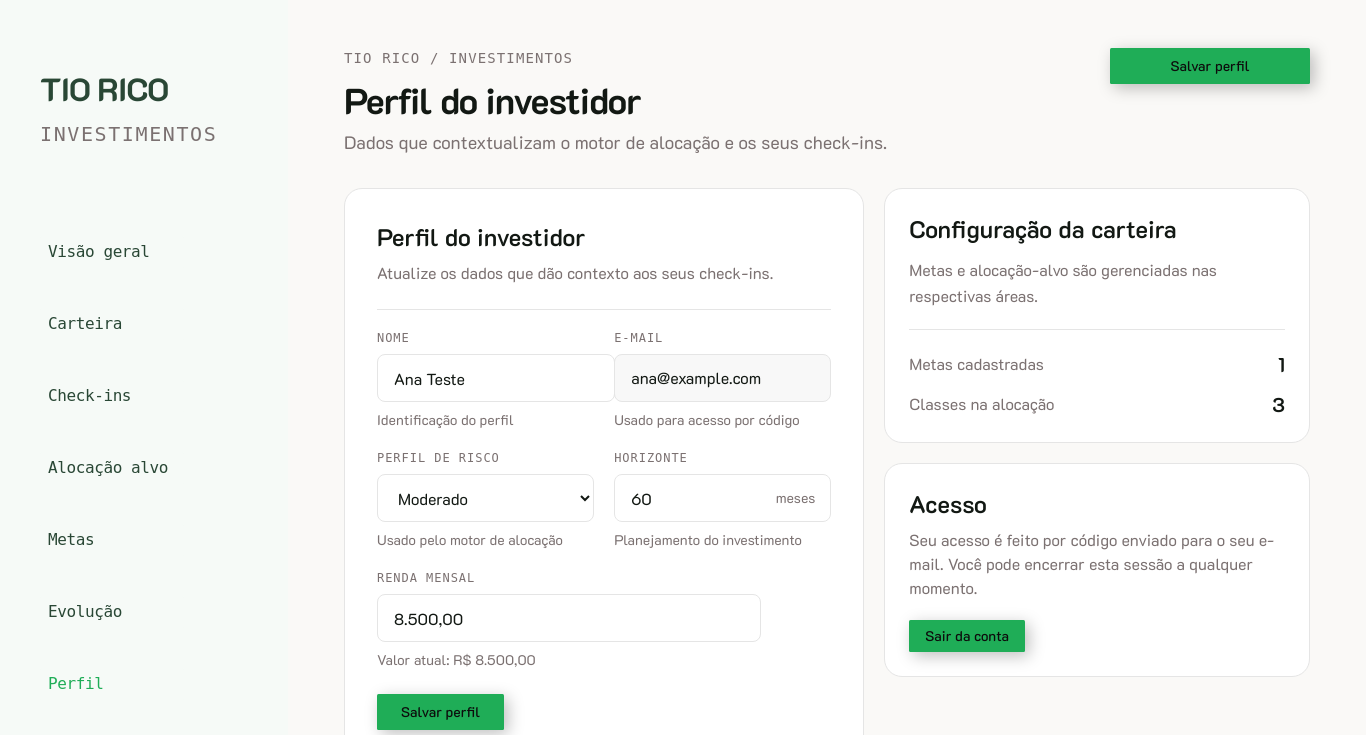
it: Profile (perfil) › salva o perfil com PATCH /api/profile e os valores convertidos
Replace the text in the field labelled "Nome" with "Ana Souza". click: (496, 378)
box: x1=377 y1=354 x2=615 y2=402
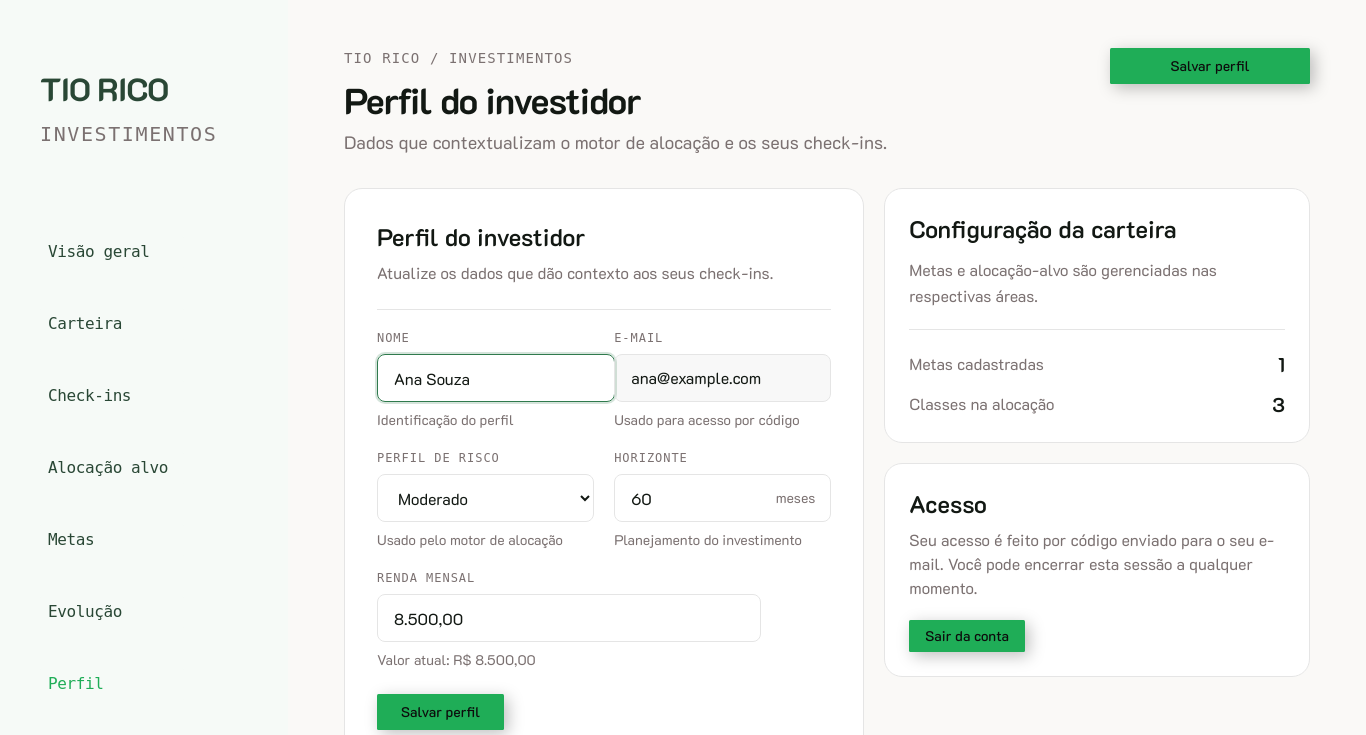
Select "Arrojado" in the dropdown labelled "Perfil de risco". click: (486, 498)
box: x1=377 y1=474 x2=594 y2=522
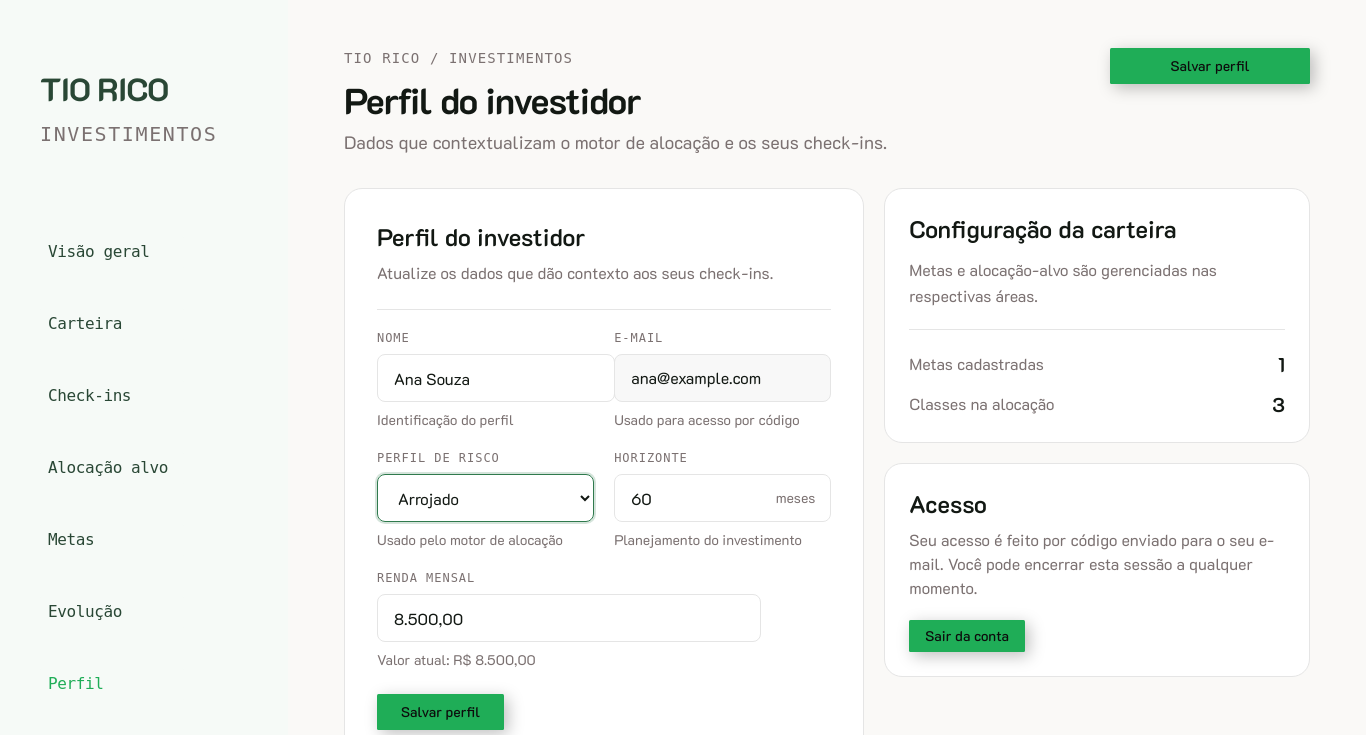
Replace the text in the number field labelled "Horizonte" with "120". click: (723, 498)
box: x1=614 y1=474 x2=831 y2=522
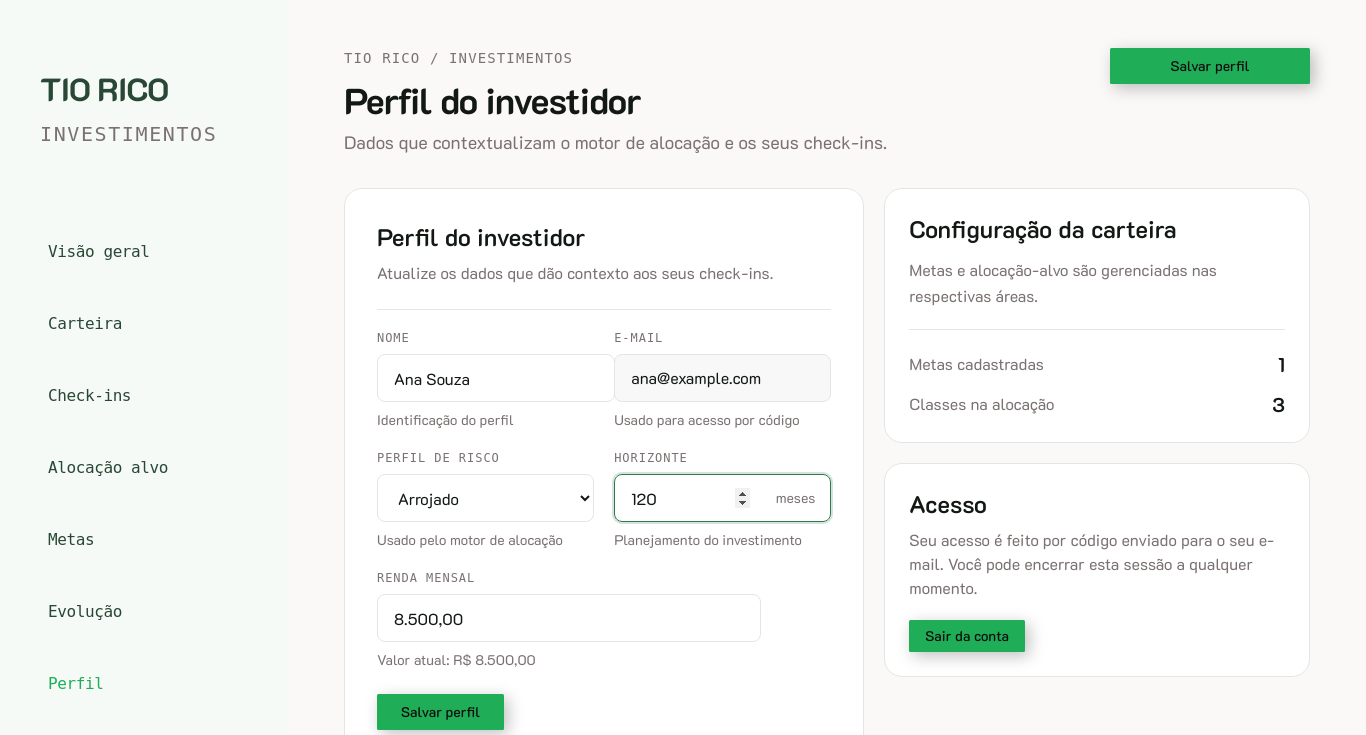
Replace the text in the field labelled "Renda mensal" with "10.000,50". click: (569, 618)
box: x1=377 y1=594 x2=761 y2=642
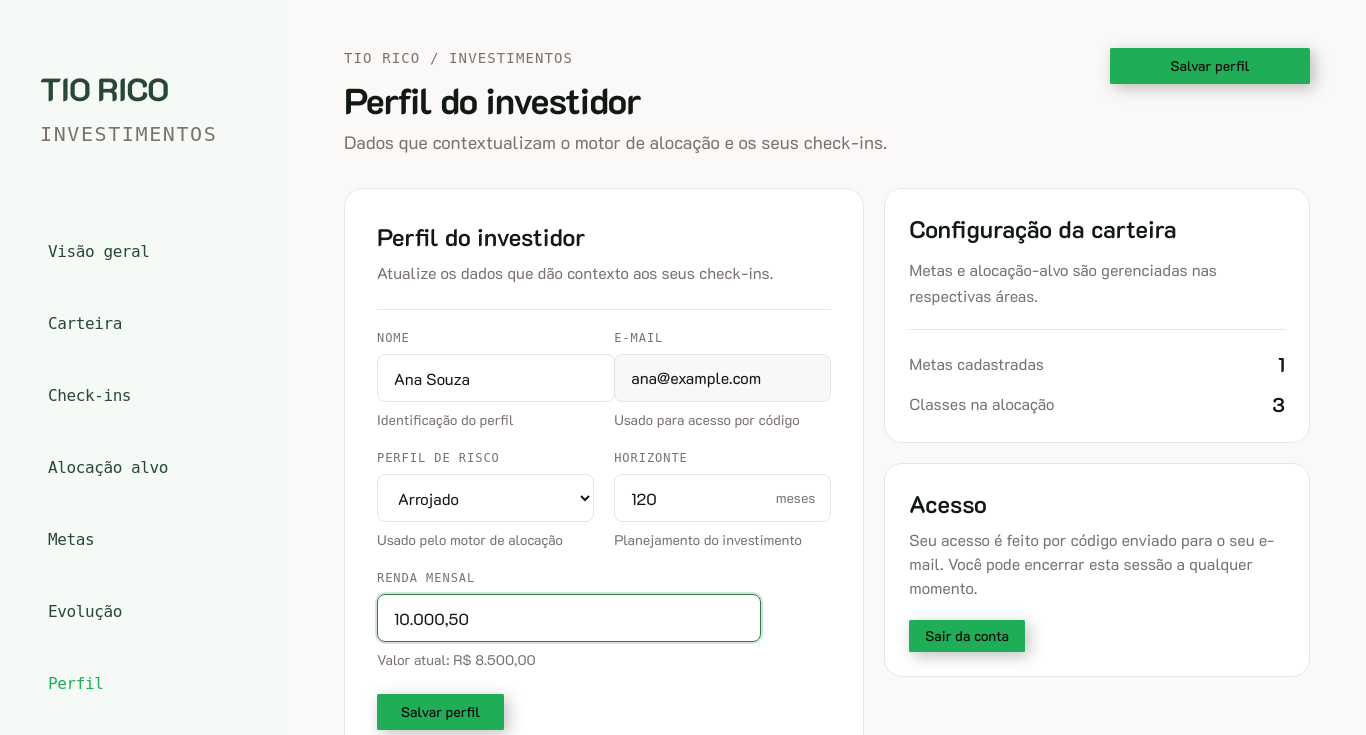
Click the button "Salvar perfil" in the row of "TIO RICO / INVESTIMENTOS". click: (1210, 66)
box: x1=1110 y1=48 x2=1310 y2=84
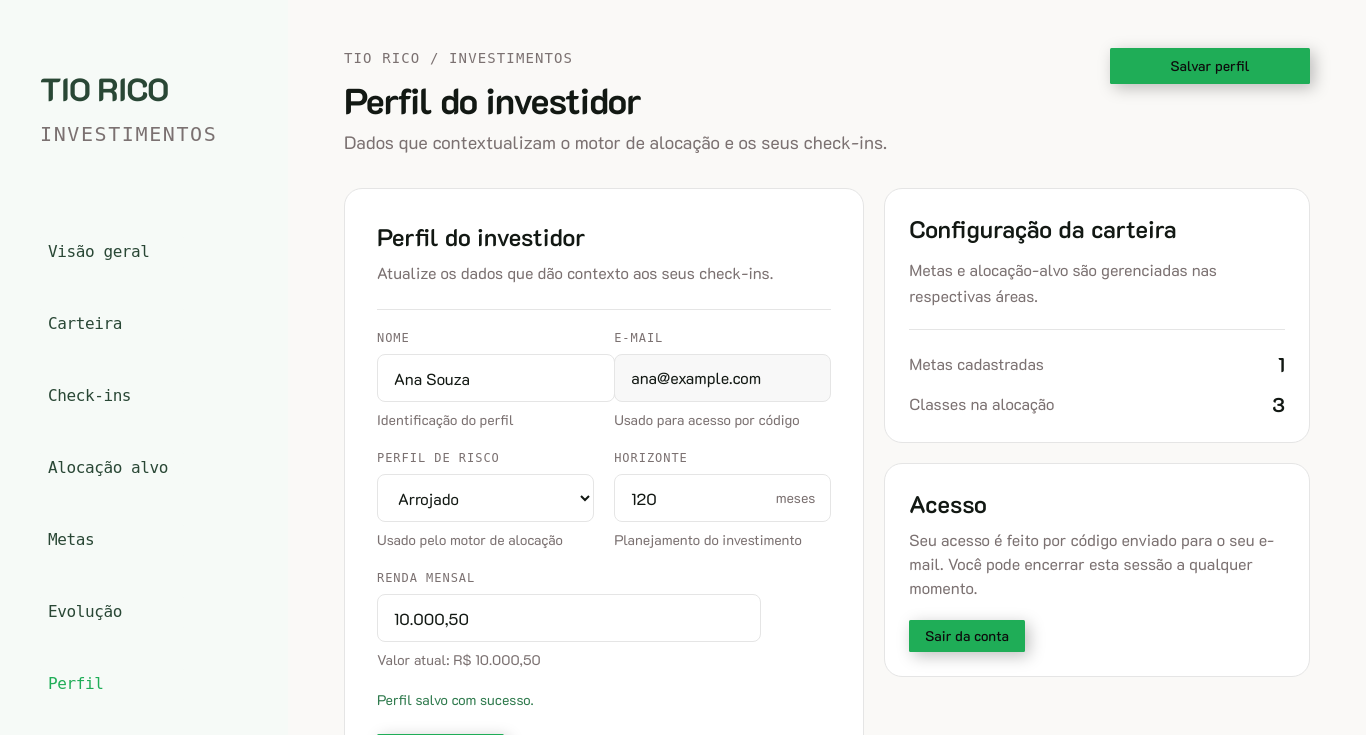
expect the text "Perfil salvo com sucesso." is shown: met, box x1=377 y1=690 x2=534 y2=709
